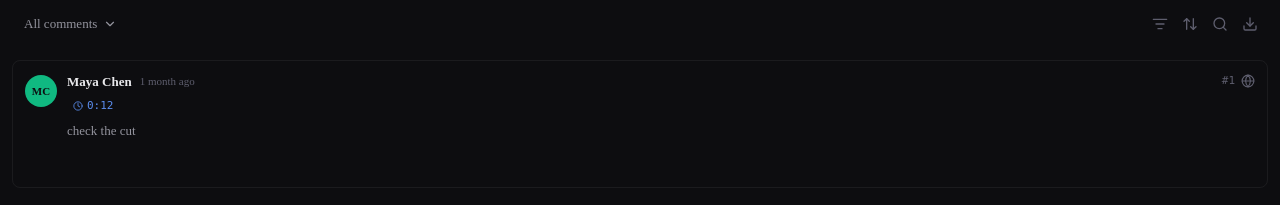
Test: which asset the export acts on › offers the NLE formats for the given asset, not the stored one
Click the button titled "Export comments". click: (1250, 24)
box: [1236,10,1264,38]
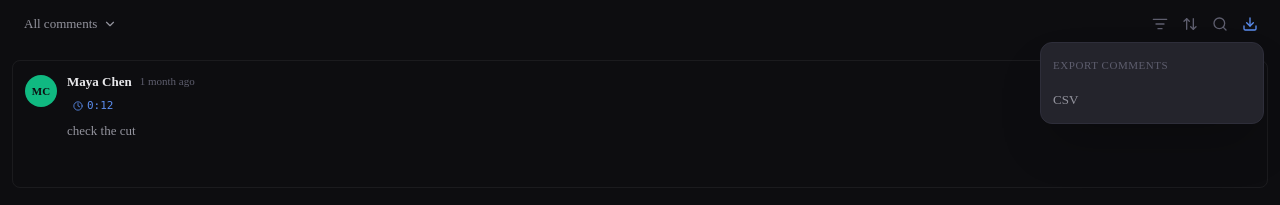
Expected: the button "CSV" is shown, [1041,82,1263,117]
